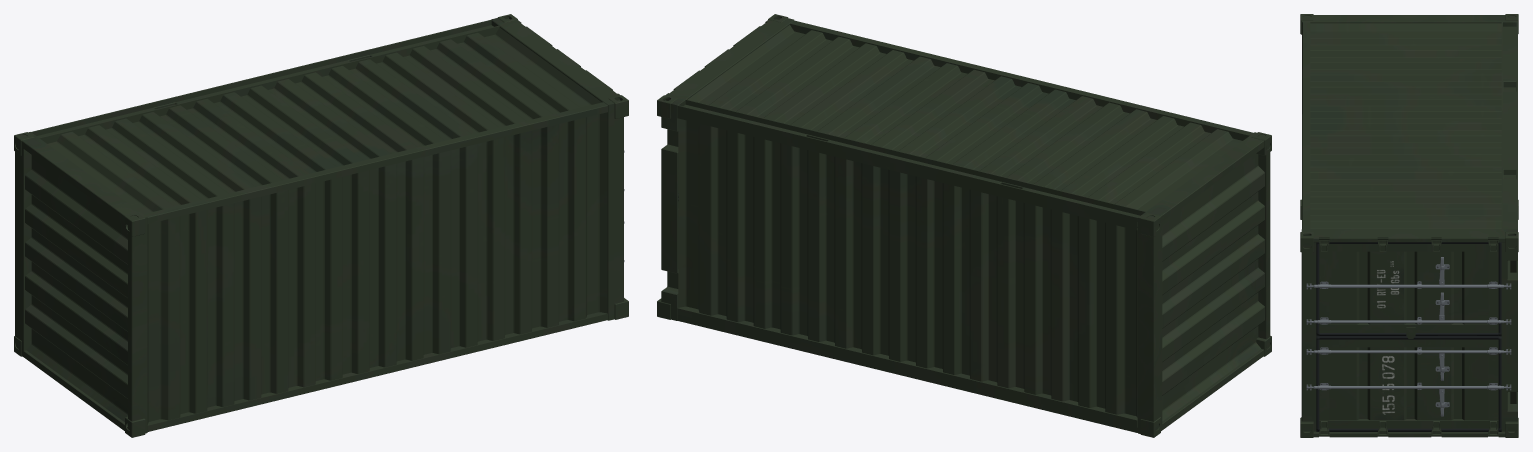
File: container.obj
3 renders of one model, left to right at view 1: azimuth 30°, elevation 25°; view 2: azimuth 150°, elevation 25°; view 3: azimuth 270°, elevation 25°, orthographic. The views are drawn at different scales.
Visible parts, largest first — view 1: Container_00; view 2: Container_00; view 3: Container_00, Container_01, Container_55, Container_23, Container_58, Container_39.
Part boxes in pixels (x1,y1,x2,y2): Container_00: [14, 14, 628, 437]; Container_00: [657, 14, 1271, 437]; Container_00: [1300, 14, 1518, 437]; Container_01: [1316, 241, 1501, 431]; Container_55: [1306, 257, 1511, 289]; Container_23: [1306, 347, 1511, 380]; Container_58: [1306, 292, 1511, 324]; Container_39: [1306, 382, 1511, 416].
Size of the model in its own units: 714 by 297 by 294.
